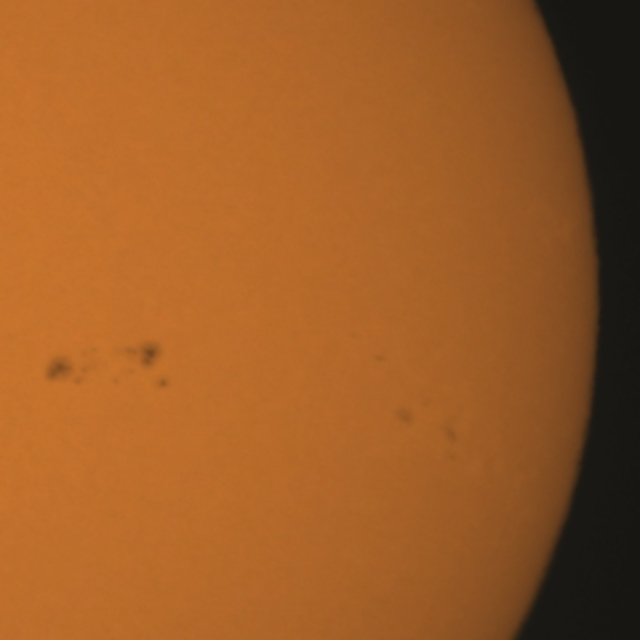sunspot: (44, 353, 91, 388), (121, 339, 163, 378), (393, 404, 414, 427), (154, 375, 171, 392), (371, 351, 388, 366)
